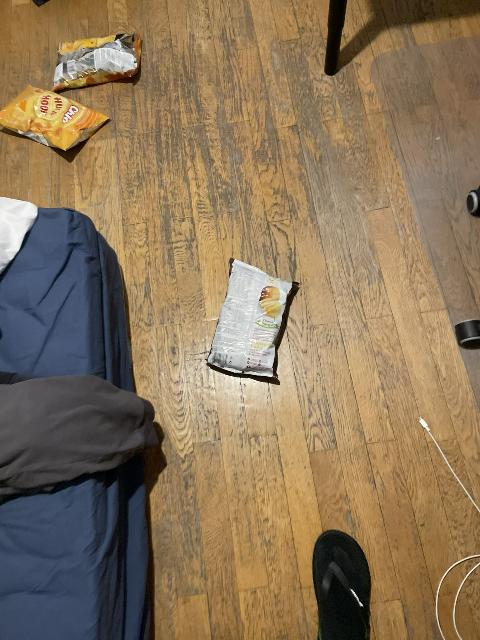Chio Cascaval 125g: (52, 32, 143, 92)
Chio Hula Hoops Cheese 70g: (1, 88, 115, 154)
Lays Beef Grilled Ribs 125g: (205, 258, 297, 379)
